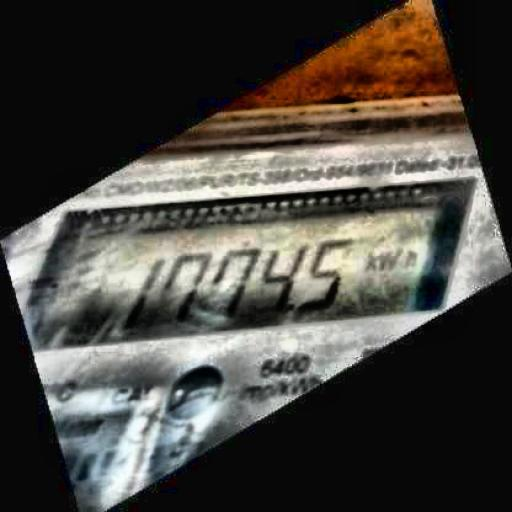DISPLAY_REGION: (12, 161, 494, 357)
SERIAL_REGION: (112, 222, 433, 330)
